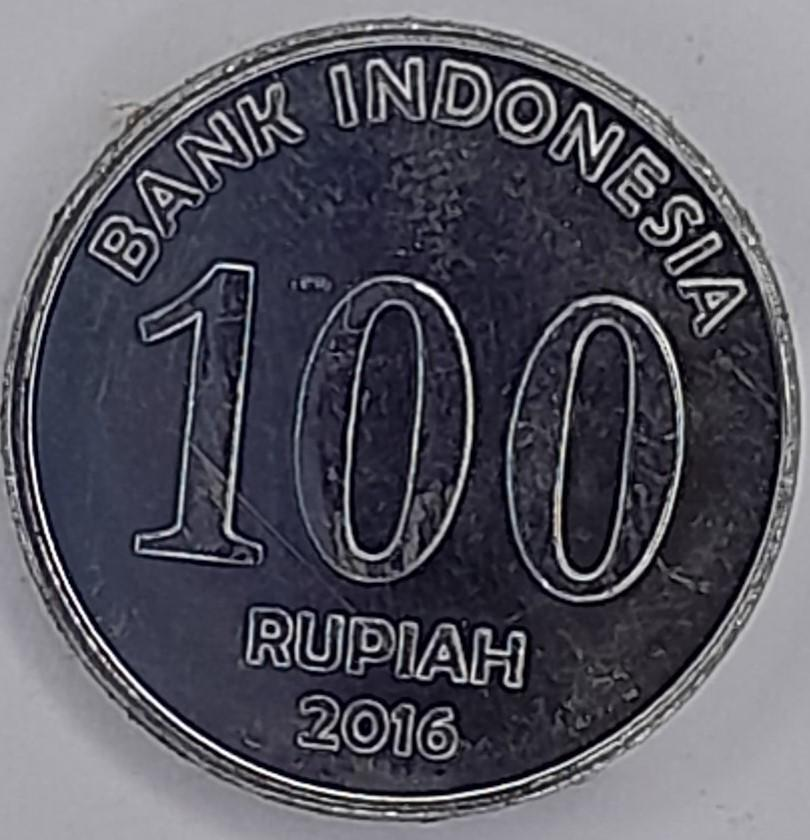coin_100_e2016: (0, 11, 809, 825)
